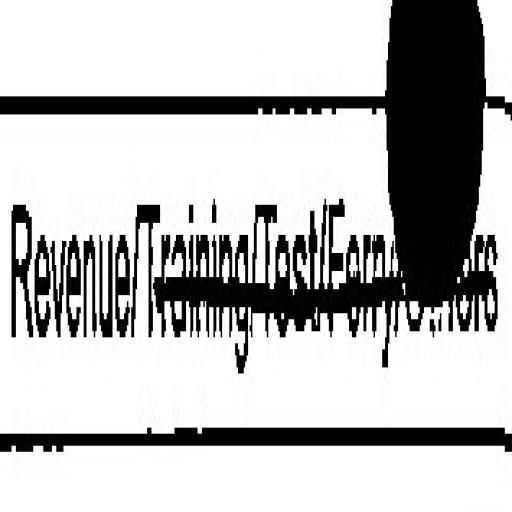check: (2, 0, 135, 512)
